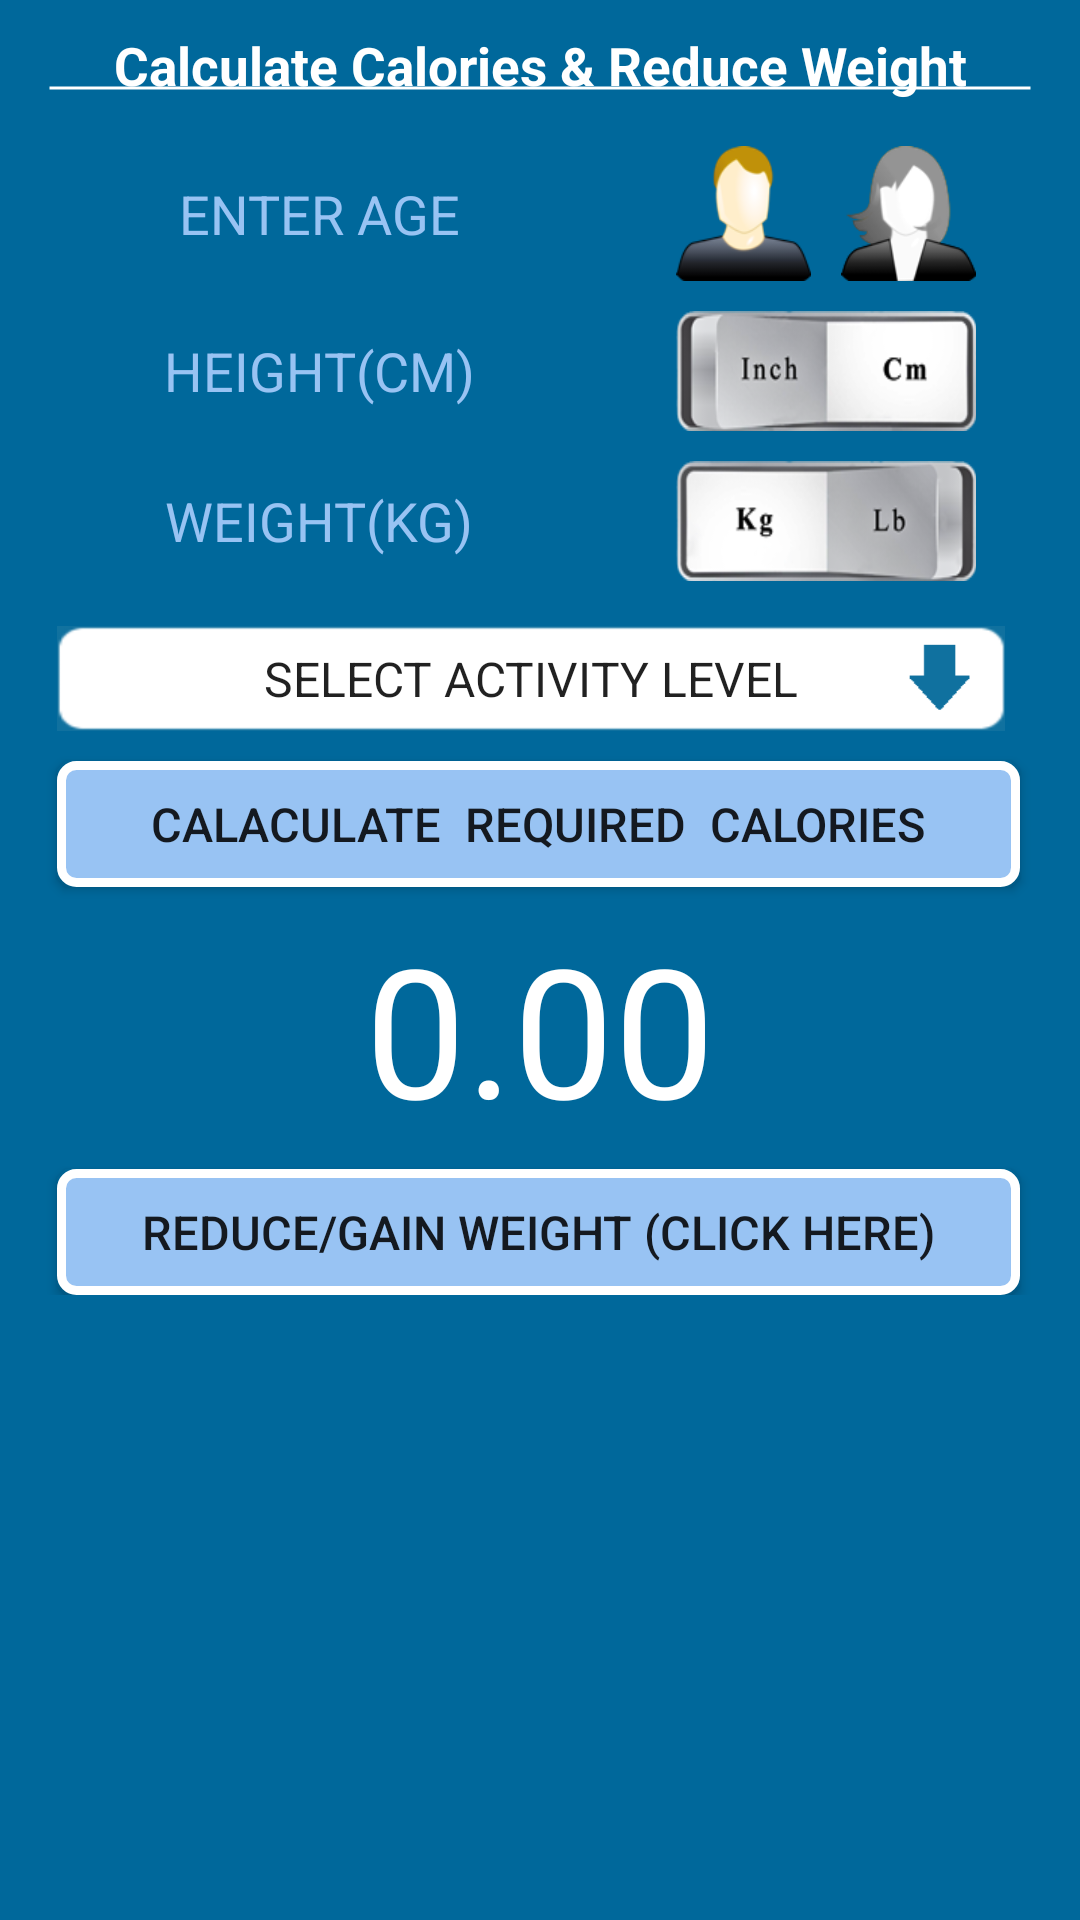

Where icons sit on this 1080 × 1920 app screen, as (x1, y1, x2, y2):
female: (841, 146, 976, 281)
male select: (676, 146, 811, 281)
